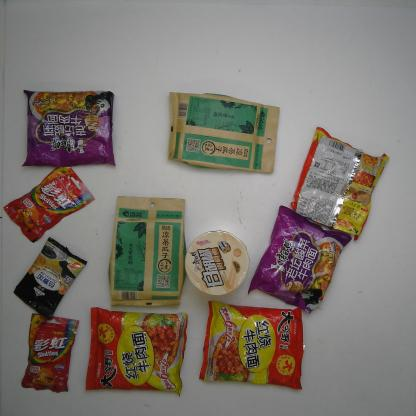Candy: (2, 156, 96, 242), (17, 310, 79, 392)
Dried Food: (164, 88, 279, 175), (107, 195, 188, 307)
Instant Drink: (12, 238, 86, 320)
Instant Noodles: (284, 124, 389, 242), (246, 202, 352, 318), (87, 303, 191, 394), (199, 298, 304, 388), (16, 85, 116, 172), (181, 227, 252, 297)
